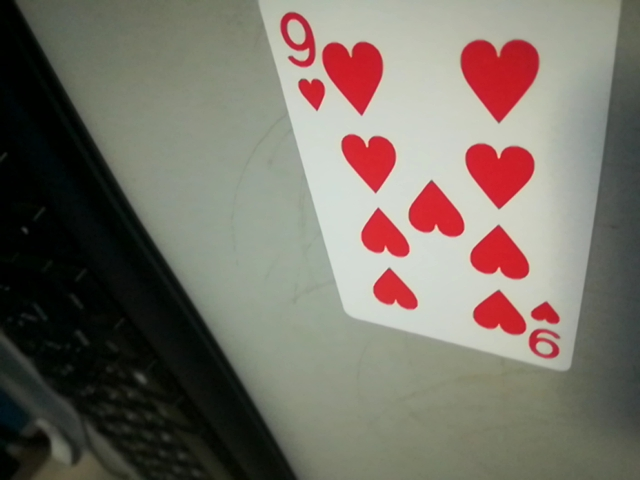hx 9: (265, 3, 327, 117)
